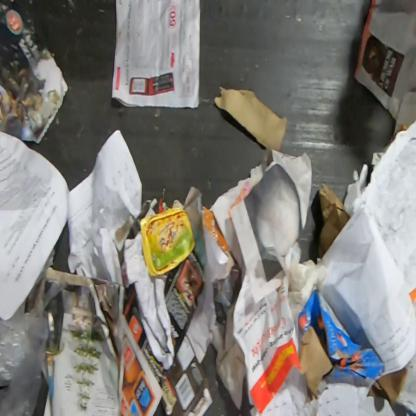cardboard: (123, 251, 215, 416), (298, 290, 409, 406), (316, 181, 350, 260)
rigid_plastic: (140, 207, 197, 278)
soft_plastic: (0, 297, 51, 415)
